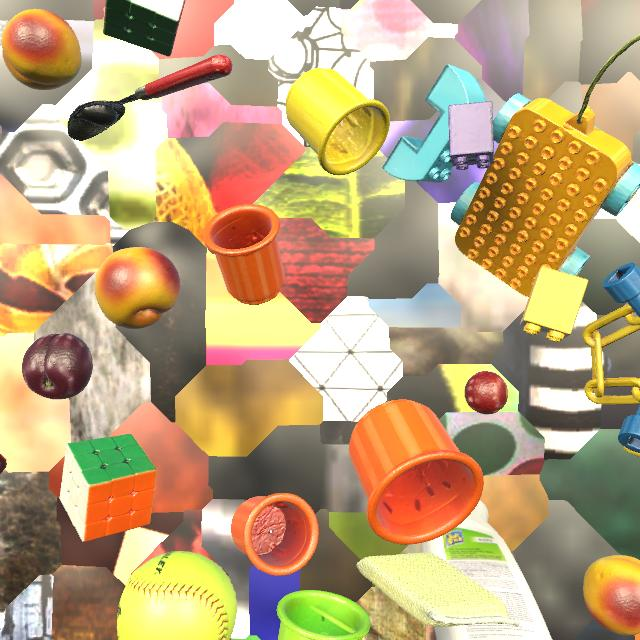ycb_015_peach: (95, 247, 181, 329), (2, 9, 82, 90), (583, 555, 640, 636)
ycb_018_plum: (22, 333, 93, 400)
